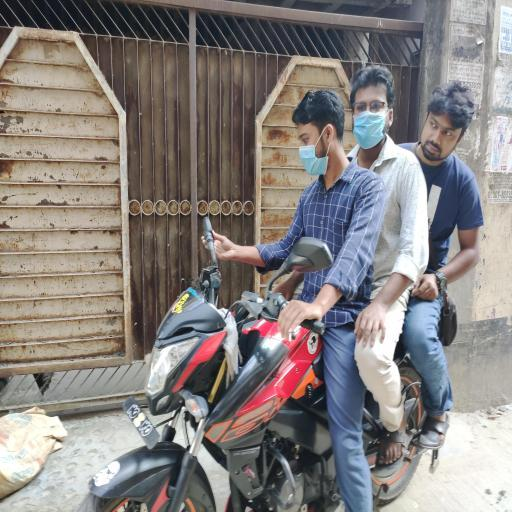no helmet: (263, 90, 353, 212)
triple riding: (84, 61, 506, 512)
